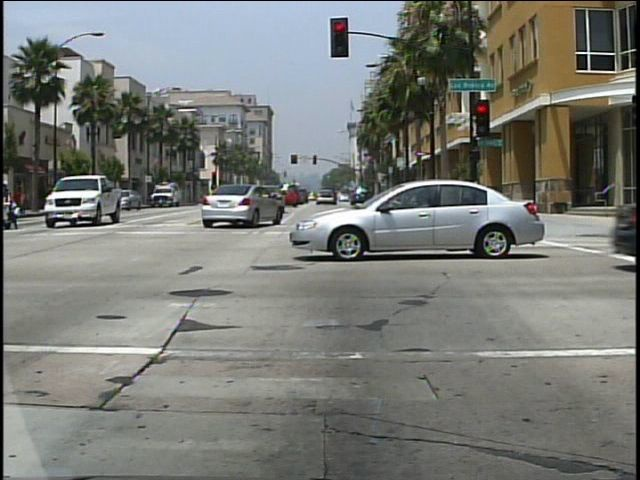person: (3, 178, 26, 232)
